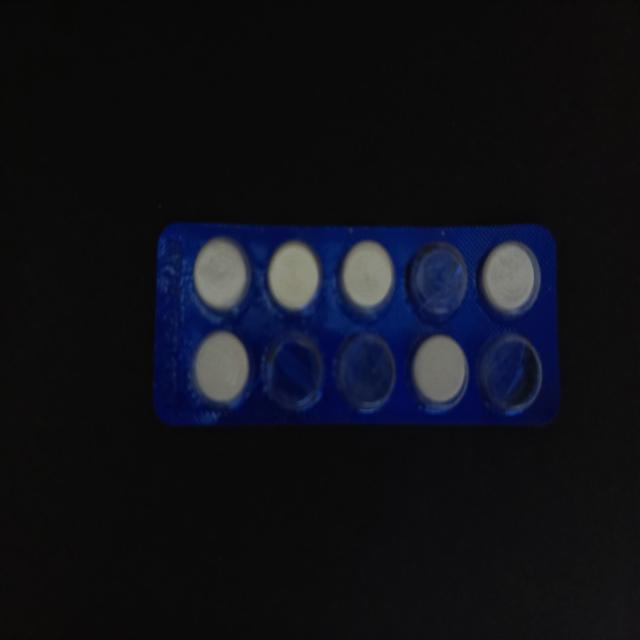defect: (473, 328, 547, 416), (259, 327, 328, 416), (333, 327, 400, 414), (404, 238, 470, 324)
